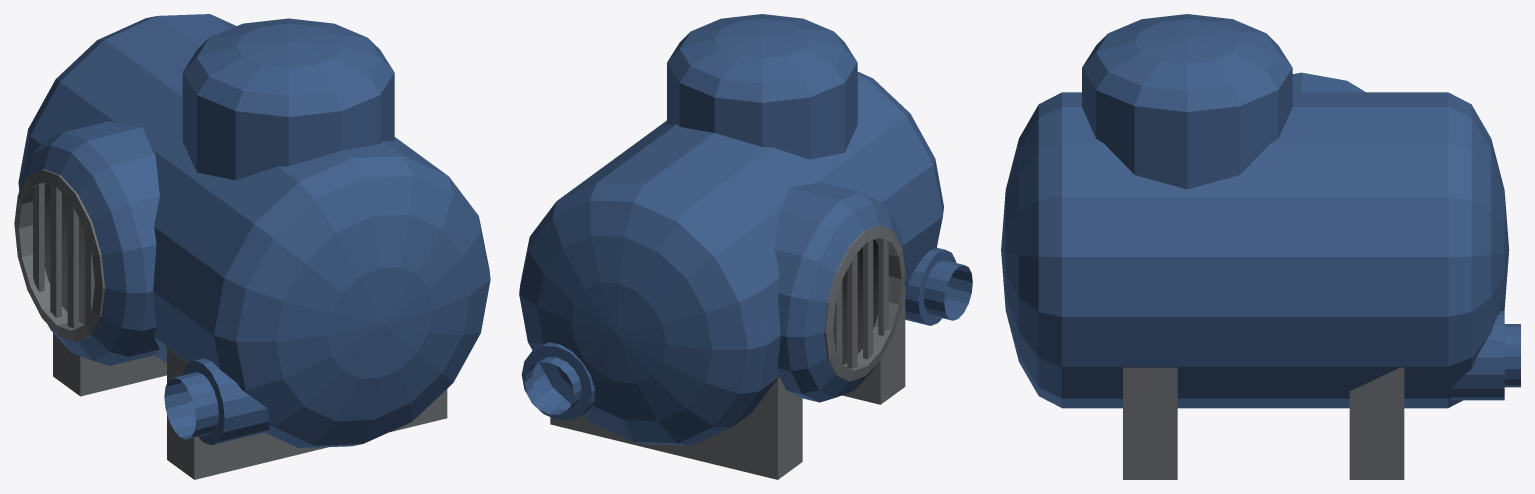
Rendered from BlueMetalMechSmallWaterBoiler1.fbx.
3 renders of one model, left to right at view 1: azimuth 30°, elevation 25°; view 2: azimuth 150°, elevation 25°; view 3: azimuth 270°, elevation 25°, orthographic. The views are drawn at different scales.
Parts seen in each view (by area): view 1: Boiler, LegsandGrill, Inside; view 2: Boiler, LegsandGrill, FeedPipe, Inside; view 3: Boiler, LegsandGrill, FeedPipe.
Part boxes in pixels (box(x1,y1,x2,y2)): Boiler: box(18, 14, 490, 448); LegsandGrill: box(14, 169, 447, 479); Inside: box(44, 184, 84, 323); Boiler: box(519, 14, 972, 445); LegsandGrill: box(550, 225, 905, 479); FeedPipe: box(521, 343, 594, 420); Inside: box(842, 239, 878, 364); Boiler: box(1001, 14, 1520, 408); LegsandGrill: box(1123, 367, 1404, 479); FeedPipe: box(1450, 311, 1520, 400).
Bounding box in the file's own units: 340 × 399 × 494.
